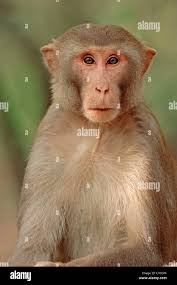monkey: (32, 19, 177, 216)
